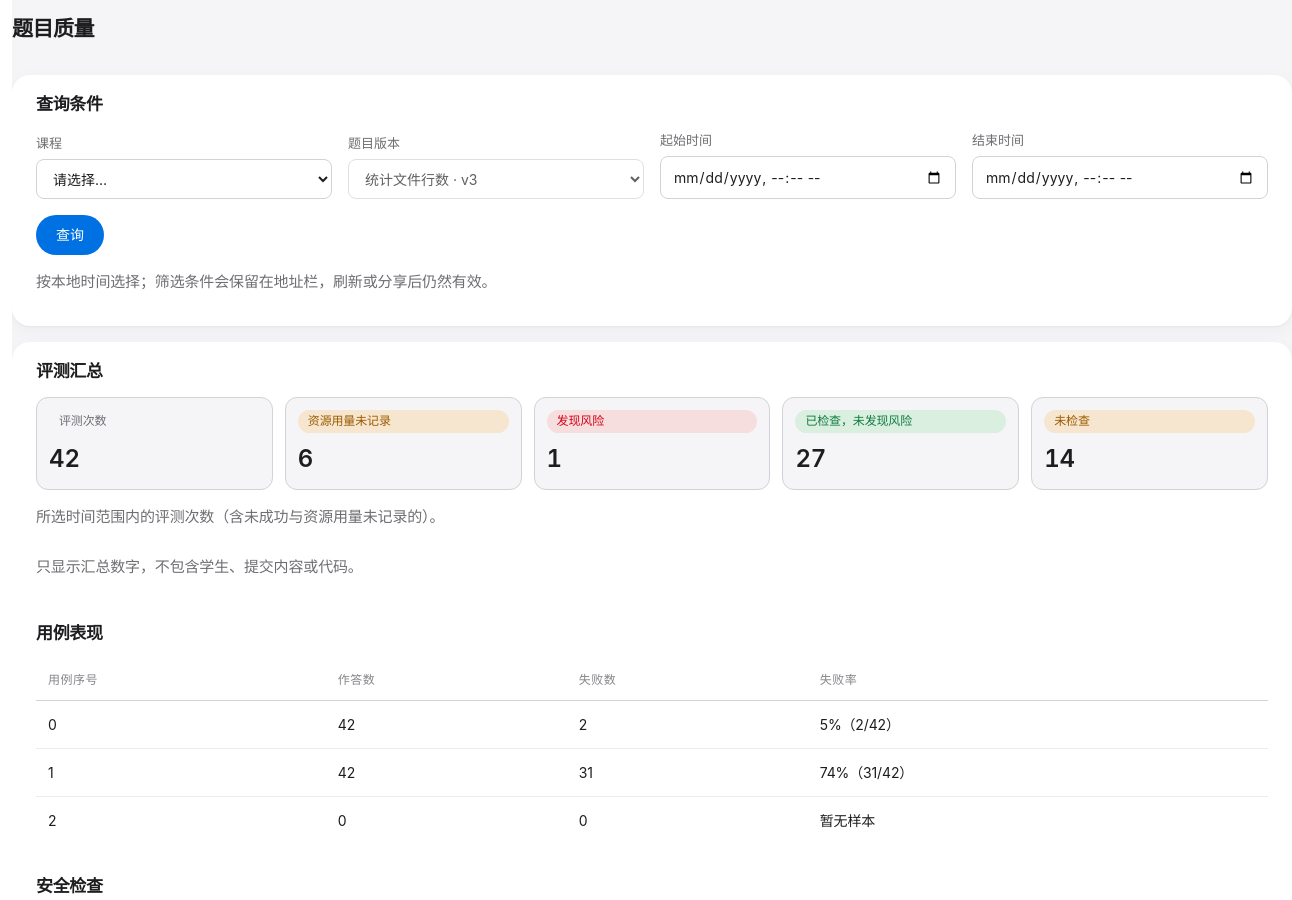
Test: P13-B 题目质量标签 › 结束时间早于开始时间：就地报错且不发第二次查询
Expected: the text "42" is shown, [49, 444, 80, 473]
// datetime-local 只接受本地无时区形式，用 change 直接设值（逐字符输入没有意义）。
Type "2026-09-15T12:00" into the field with test id "review-quality-from" at (808, 178), box [660, 156, 956, 199]
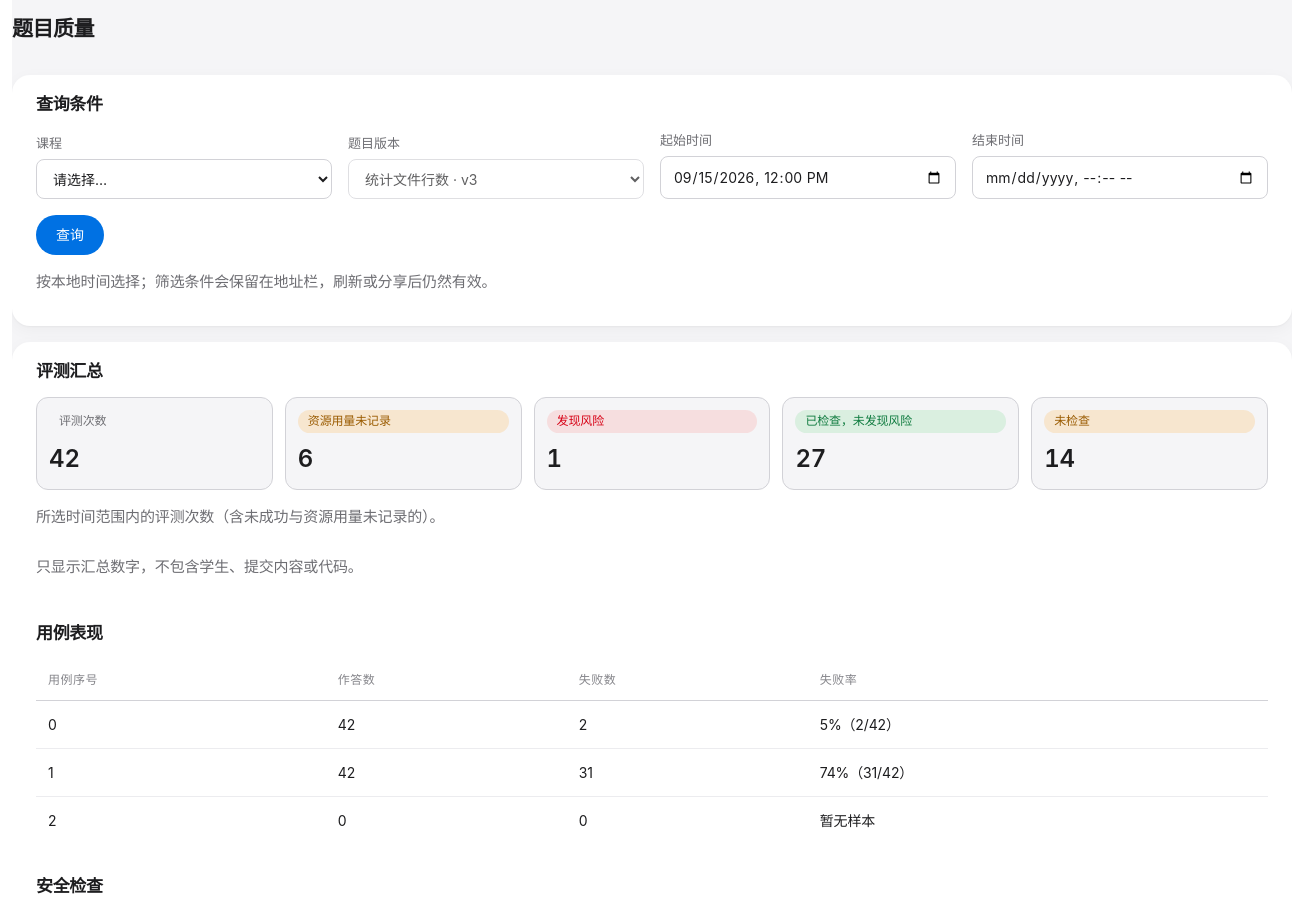
Type "2026-09-15T10:00" into the field with test id "review-quality-to" at (1120, 178), box [972, 156, 1268, 199]
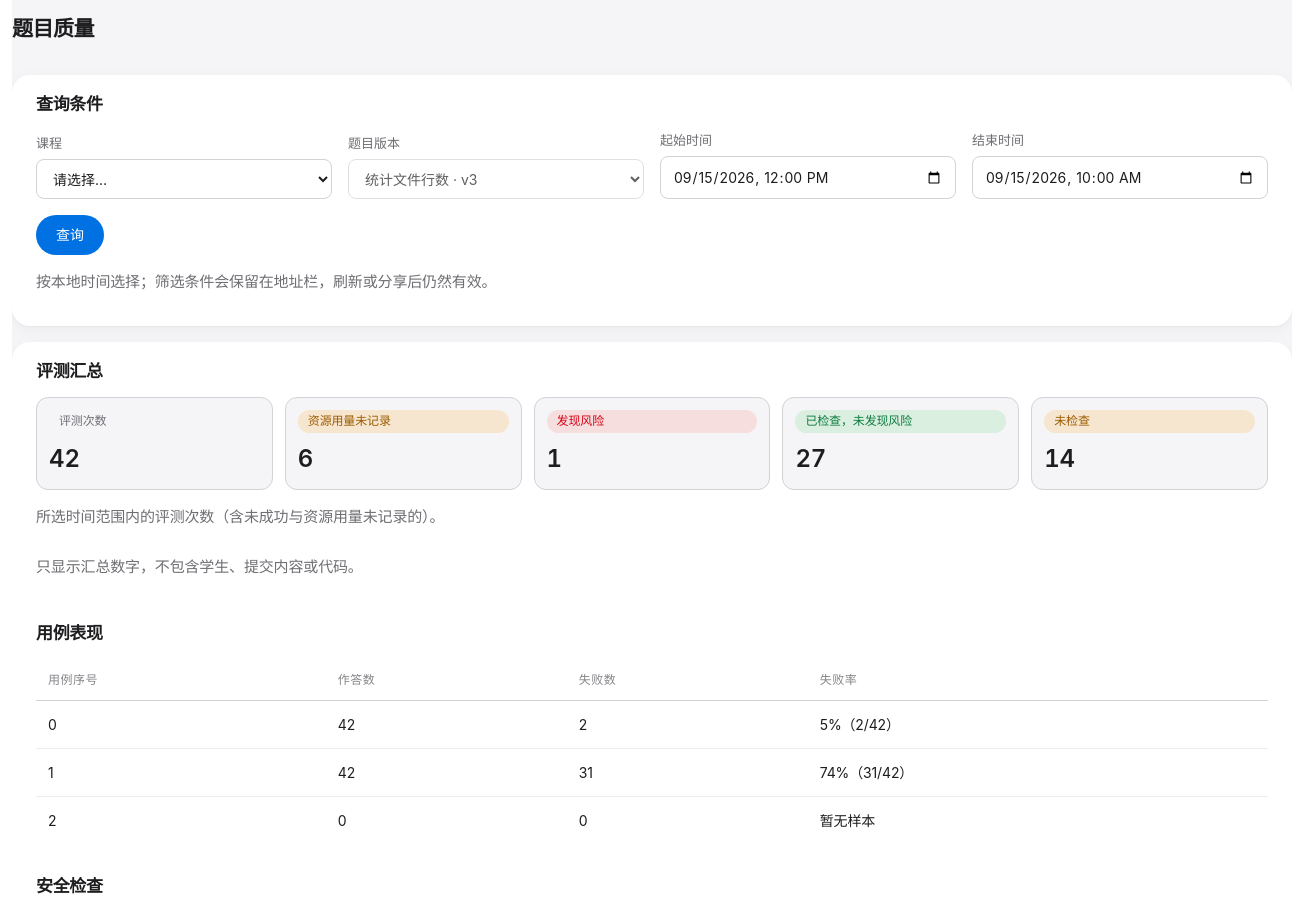
Click the button with test id "review-quality-apply" at (70, 235), box [36, 215, 104, 255]
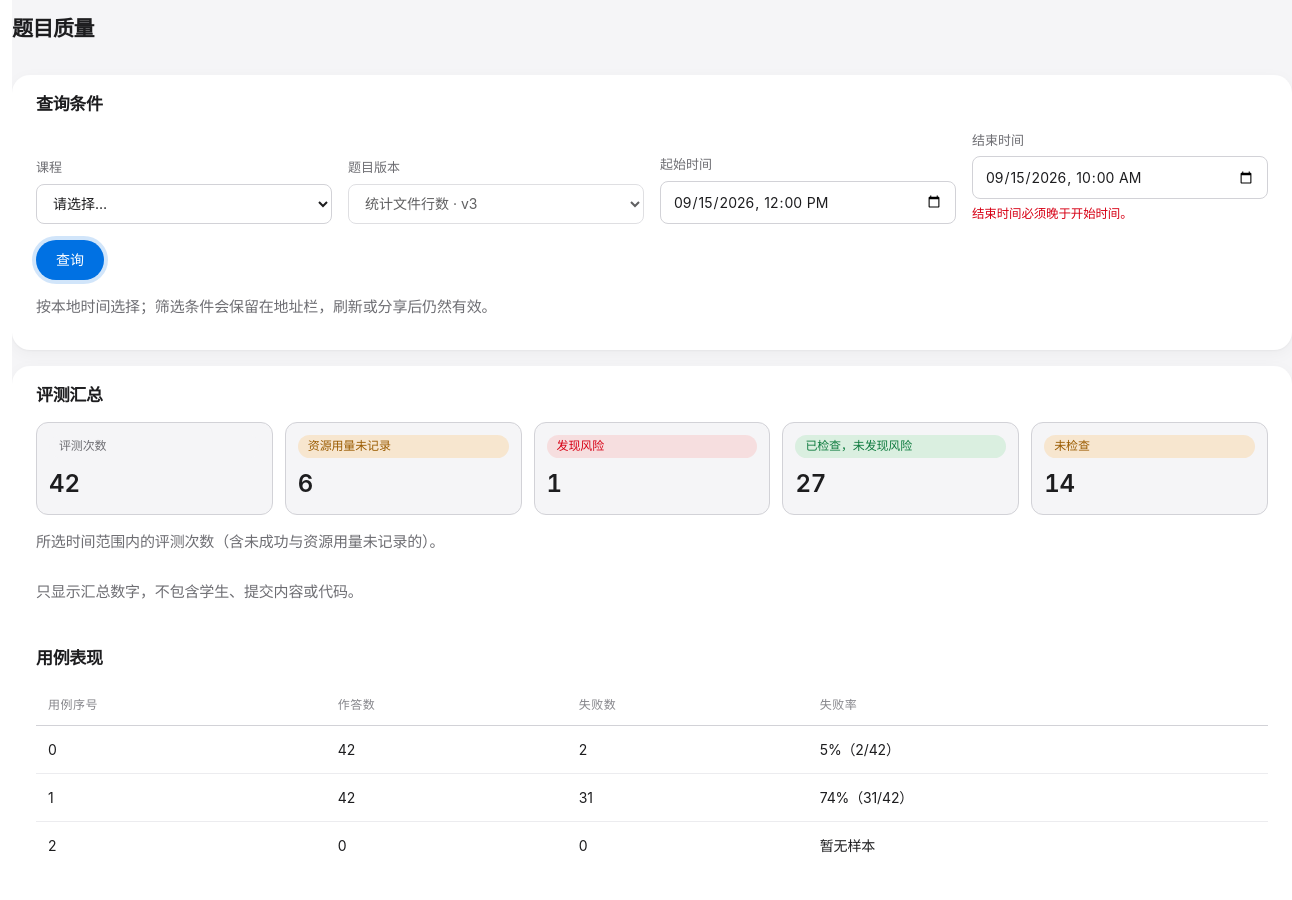
Expected: the text "结束时间必须晚于开始时间。" is shown, [972, 206, 1133, 221]
